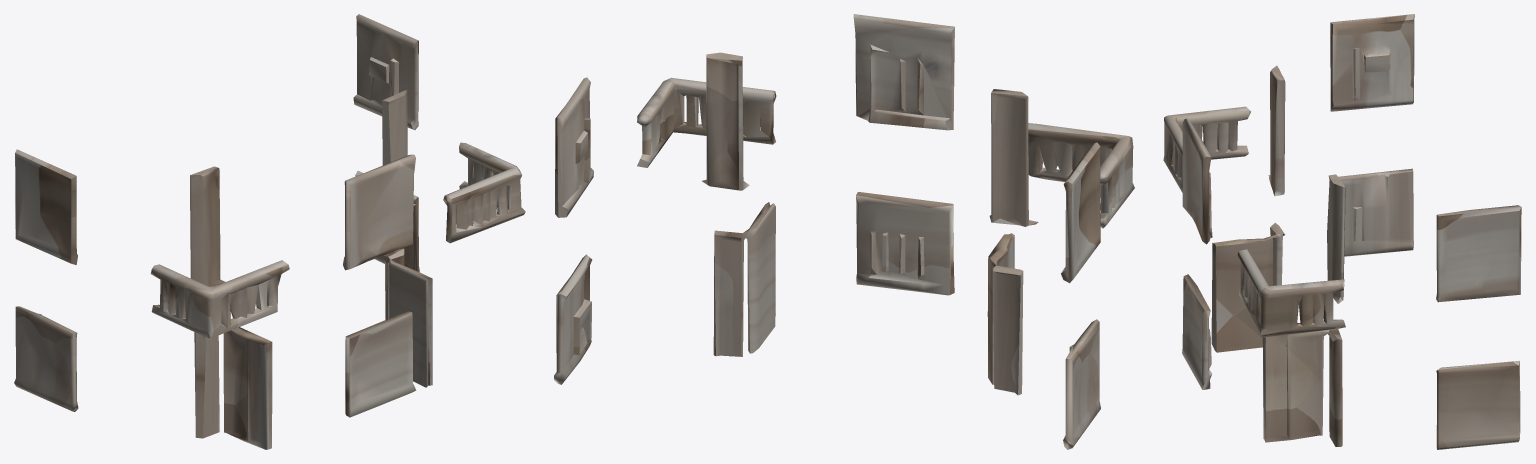
File: windows2.obj
3 views of the same model, side by side, from view 1: azimuth 30°, elevation 25°; view 2: azimuth 150°, elevation 25°; view 3: azimuth 270°, elevation 25° (orthographic). The views are drawn at different scales.
Visible parts, largest first — view 1: Windowsgeom1; view 2: Windowsgeom1; view 3: Windowsgeom1.
Part boxes in pixels (x1,y1,x2,y2): Windowsgeom1: (14,14,525,449); Windowsgeom1: (554,14,1134,449); Windowsgeom1: (1163,14,1521,449).
Bounding box in the file's own units: 18.52 × 10.78 × 13.24.
